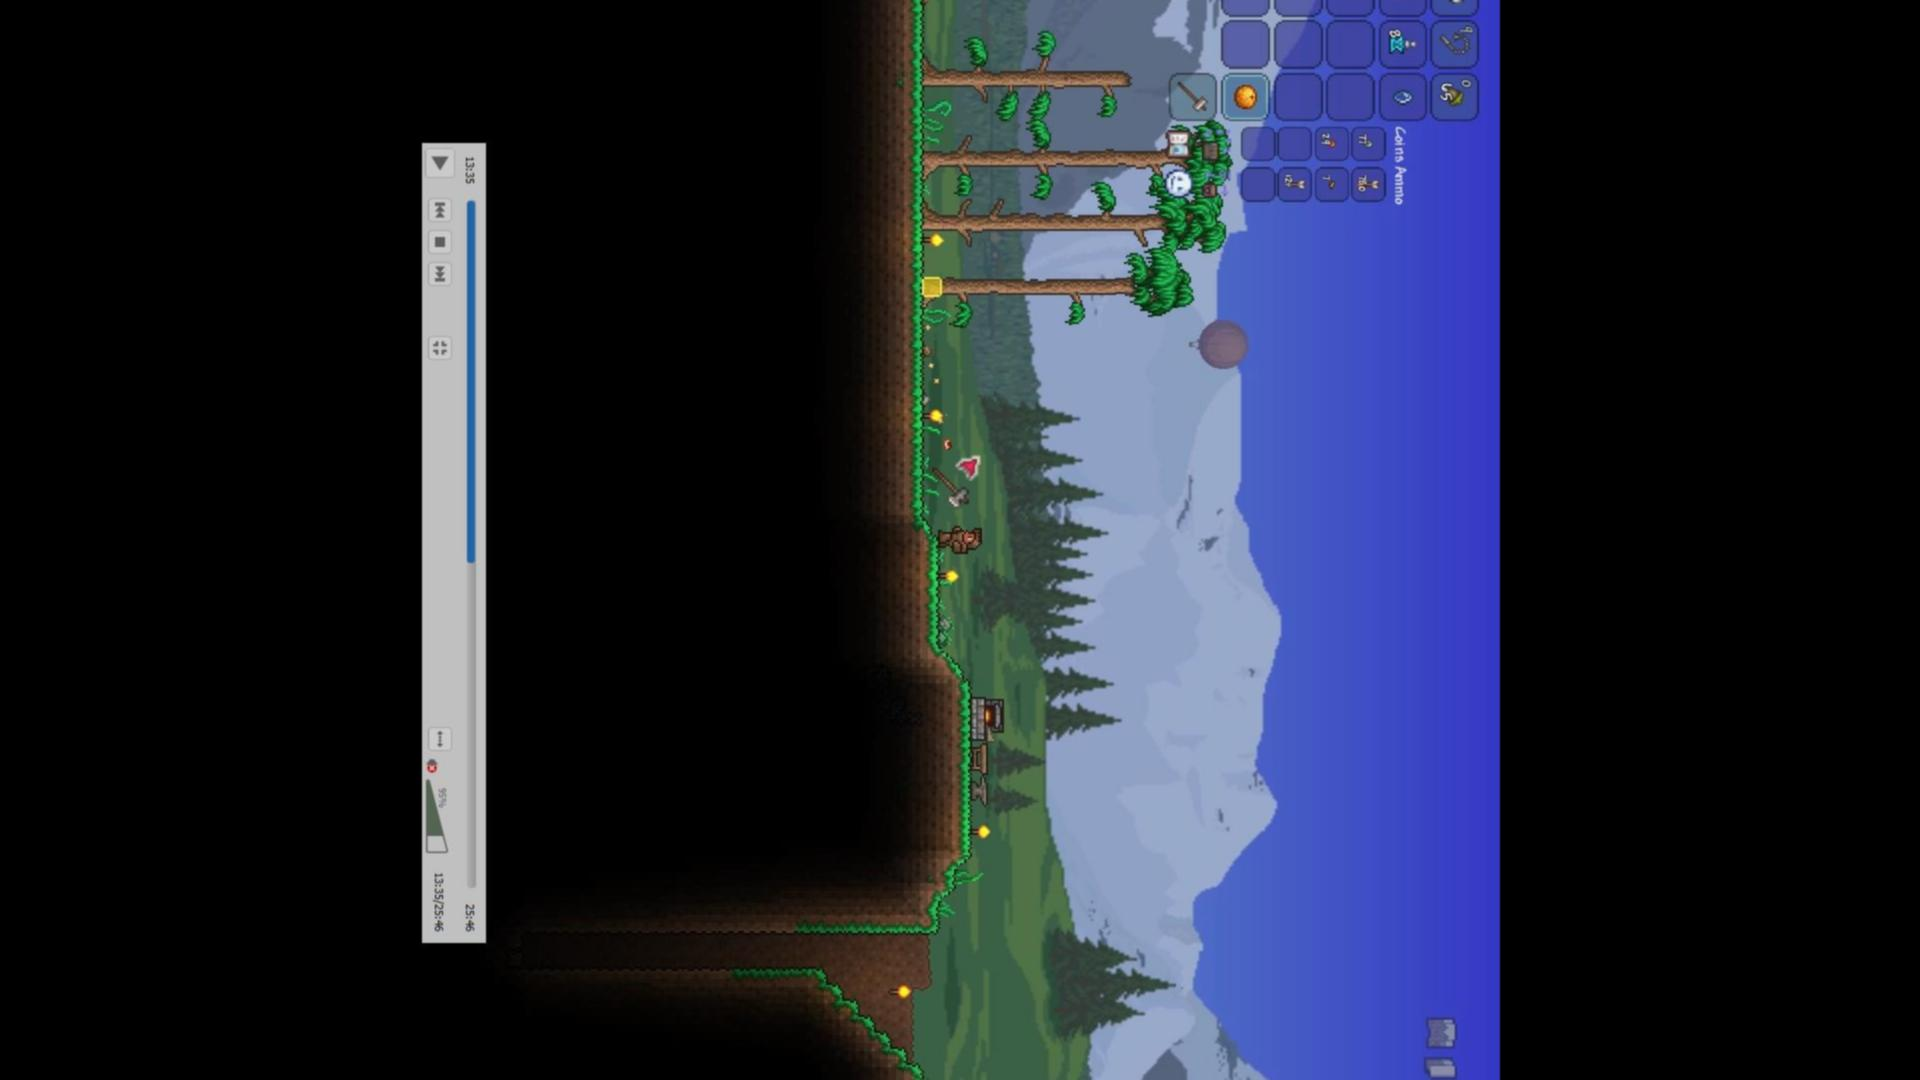anvil: (967, 774, 996, 810)
furnace: (968, 696, 1009, 746)
recallP: (1385, 33, 1420, 57)
